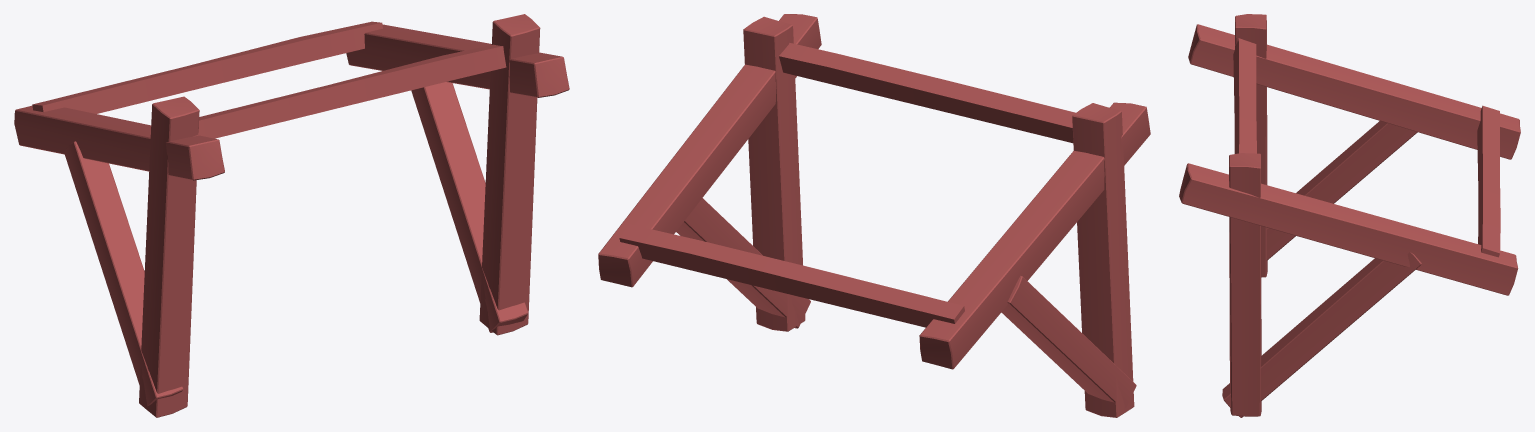
File: Battlement_Roof_01A_Lod0.fbx
The picture shows the model from 3 angles, left to right: view 1: azimuth 30°, elevation 25°; view 2: azimuth 150°, elevation 25°; view 3: azimuth 270°, elevation 25°; orthographic projection. The views are drawn at different scales.
Parts seen in each view (by area): view 1: Battlement_Roof_01A_Lod0; view 2: Battlement_Roof_01A_Lod0; view 3: Battlement_Roof_01A_Lod0.
Boxes of the visible parts, x1,y1,x2,y2 form: Battlement_Roof_01A_Lod0: (14, 14, 569, 417); Battlement_Roof_01A_Lod0: (598, 14, 1150, 417); Battlement_Roof_01A_Lod0: (1179, 14, 1520, 417).
Size of the model in its own units: 149 by 112 by 133.
